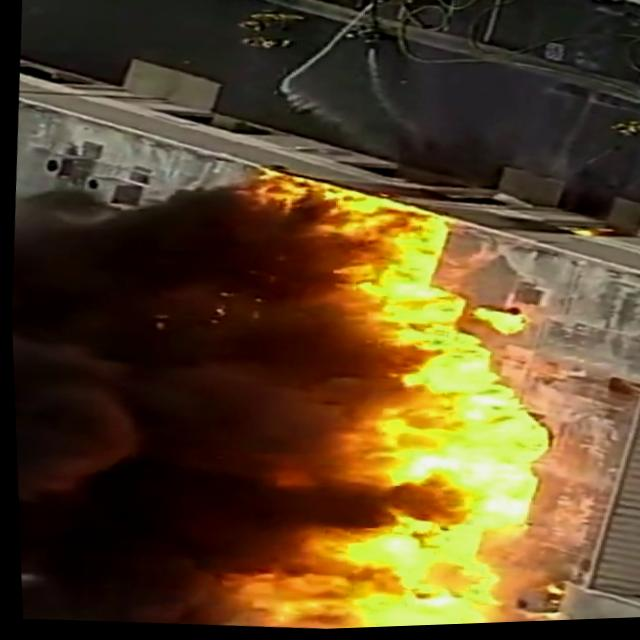fire: (219, 505, 512, 634), (297, 375, 542, 524), (308, 231, 491, 391)
smoke: (6, 210, 283, 587)
